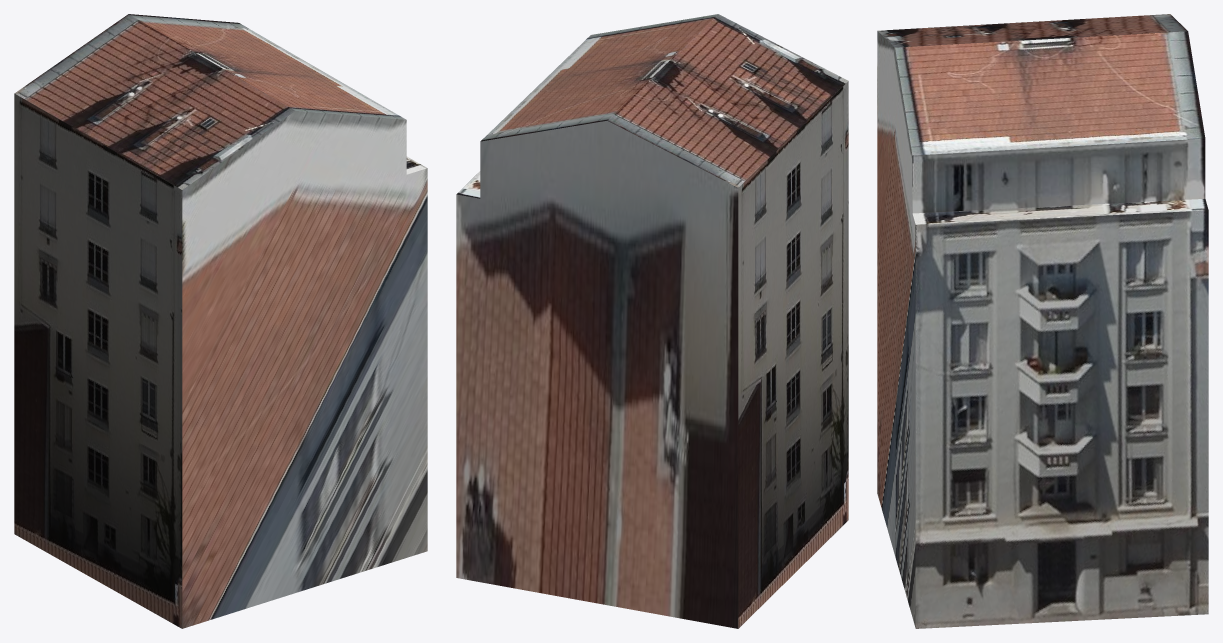
3 renders of one model, left to right at view 1: azimuth 30°, elevation 25°; view 2: azimuth 150°, elevation 25°; view 3: azimuth 270°, elevation 25°, orthographic. The views are drawn at different scales.
Visible parts, largest first — view 1: Z_UP; view 2: Z_UP; view 3: Z_UP.
Boxes of the visible parts, left/top/right/bottom form: Z_UP: left=14, top=14, right=427, bottom=628; Z_UP: left=456, top=14, right=848, bottom=628; Z_UP: left=877, top=14, right=1208, bottom=628.
Bounding box in the file's own units: 14.1 × 22.31 × 13.13.
2 materials, 1 textured.
